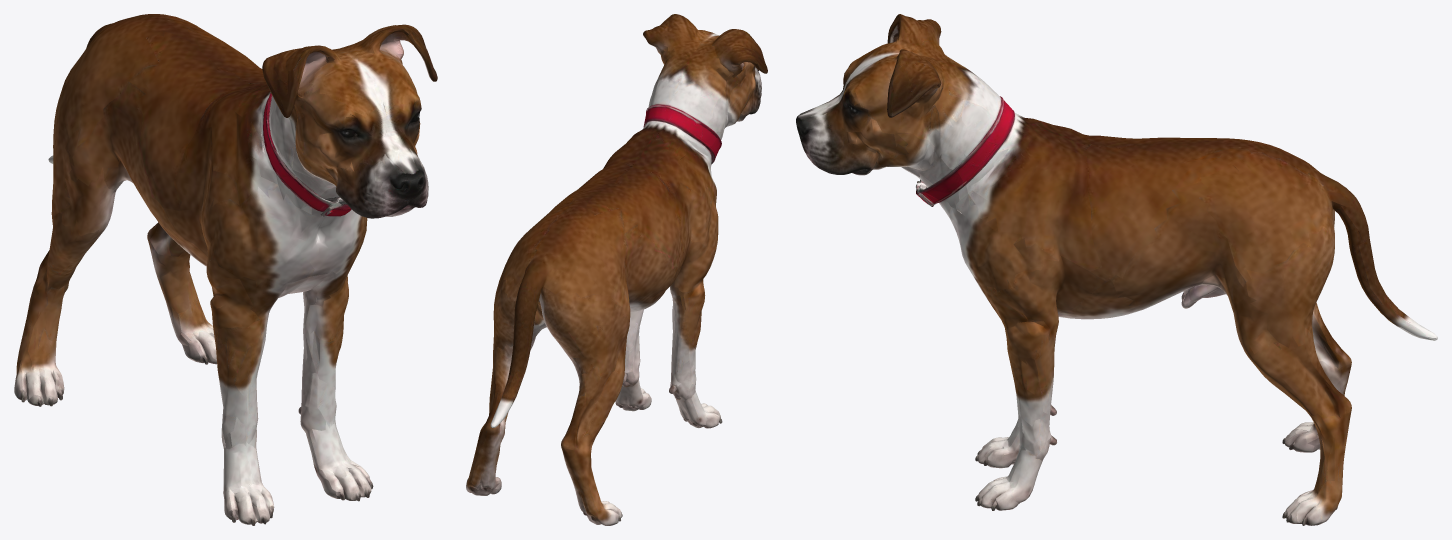
Rendered from dog.glb.
3 views of the same model, side by side, from view 1: azimuth 30°, elevation 25°; view 2: azimuth 150°, elevation 25°; view 3: azimuth 270°, elevation 25° (orthographic). The views are drawn at different scales.
Bounding box in the file's own units: 0.6333 × 1.46 × 1.9.
Materials: 1 (1 with a texture image).
